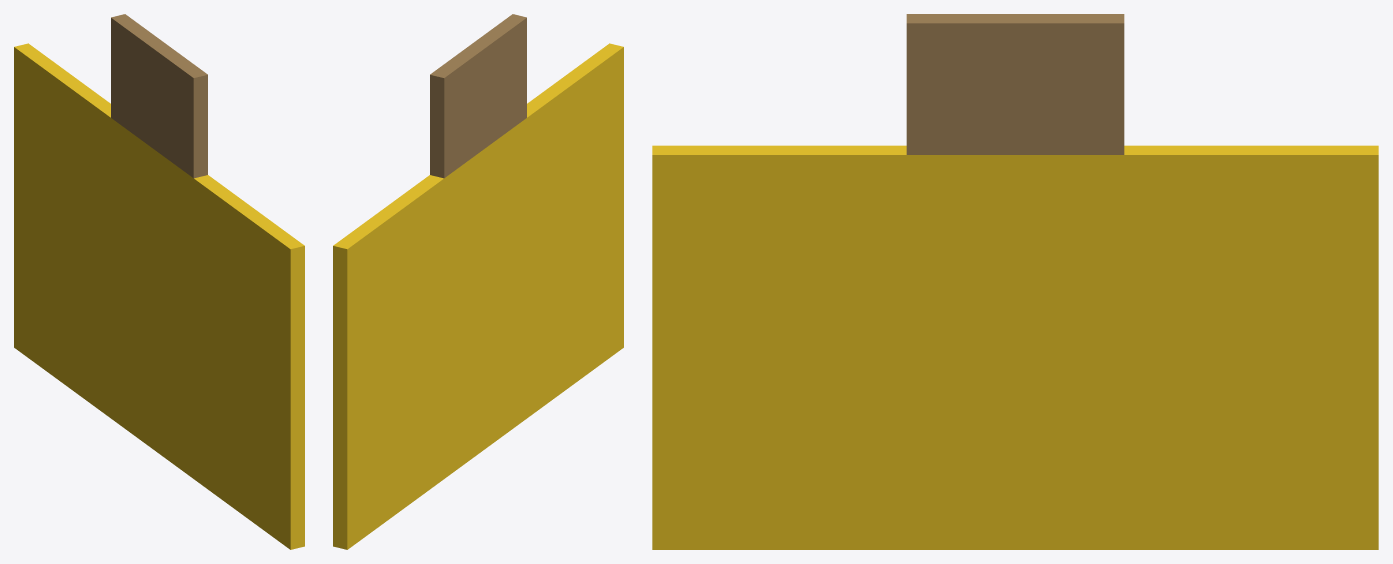
The model's file is alvo_A.glb.
3 views of the same model, side by side, from view 1: azimuth 30°, elevation 25°; view 2: azimuth 150°, elevation 25°; view 3: azimuth 270°, elevation 25° (orthographic). The views are drawn at different scales.
Visible parts, largest first — view 1: painel_alvo_A, pega_alvo_A; view 2: painel_alvo_A, pega_alvo_A; view 3: painel_alvo_A, pega_alvo_A.
Part boxes in pixels (x1=…): painel_alvo_A: x1=14, y1=43, x2=304, y2=549; pega_alvo_A: x1=111, y1=14, x2=207, y2=178; painel_alvo_A: x1=333, y1=43, x2=623, y2=549; pega_alvo_A: x1=430, y1=14, x2=526, y2=178; painel_alvo_A: x1=652, y1=145, x2=1378, y2=549; pega_alvo_A: x1=906, y1=14, x2=1124, y2=154.
Bounding box in the file's own units: 0.003 × 0.08 × 0.1.
